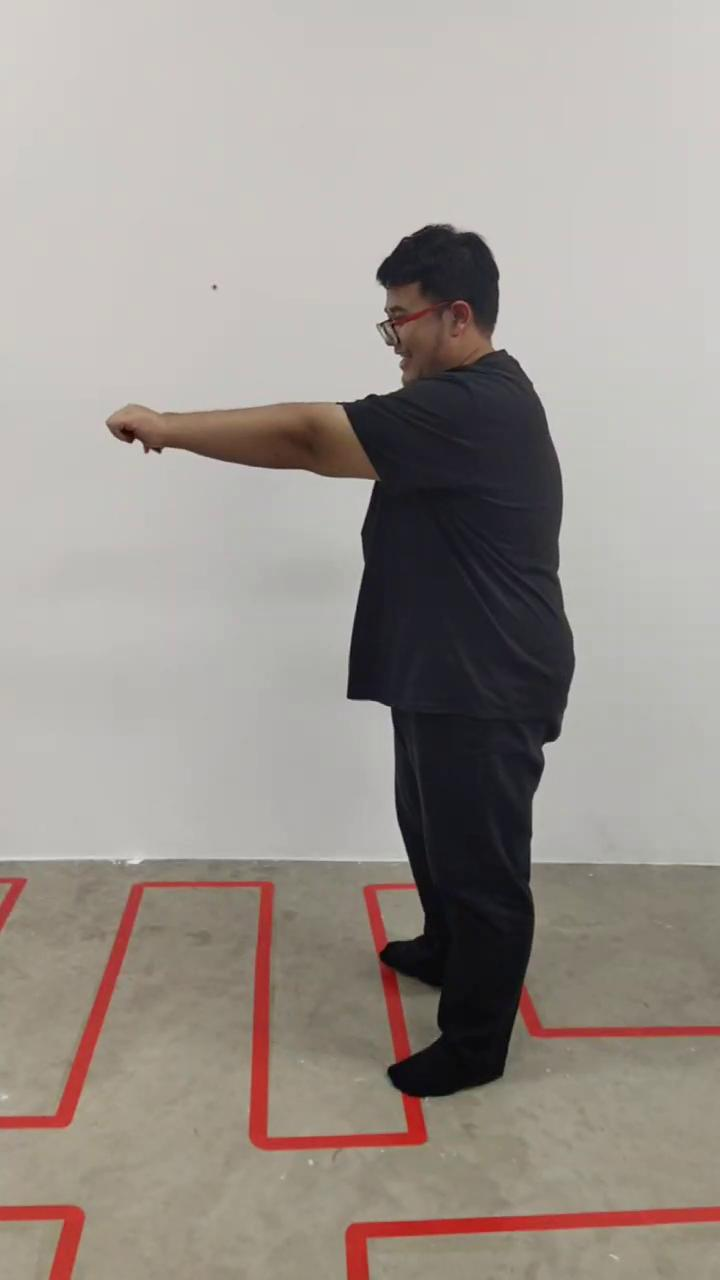squat up: (107, 222, 575, 1101)
